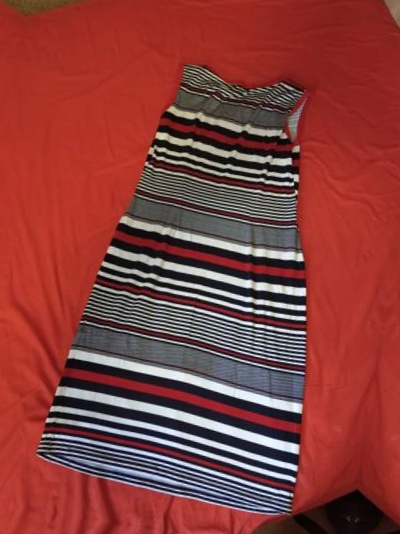Dress: (27, 20, 393, 532), (382, 76, 400, 534), (0, 531, 312, 534)
